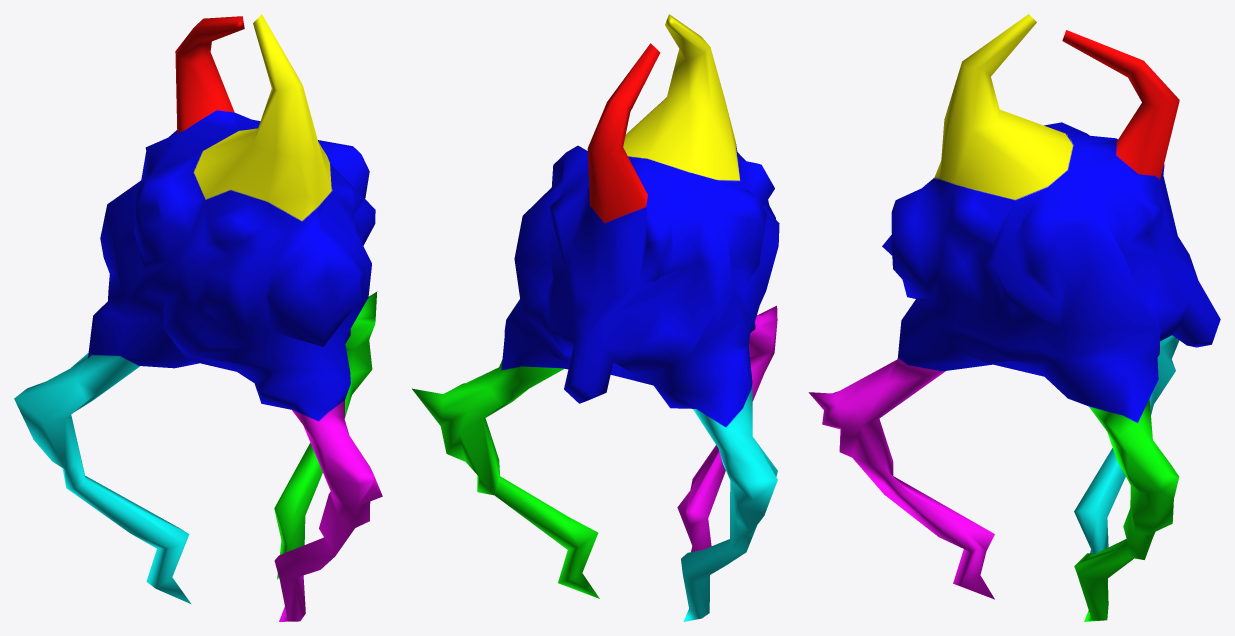
The model's file is creep.fbx.
3 renders of one model, left to right at view 1: azimuth 30°, elevation 25°; view 2: azimuth 150°, elevation 25°; view 3: azimuth 270°, elevation 25°, orthographic. The views are drawn at different scales.
Visible parts, largest first — view 1: creep; view 2: creep; view 3: creep.
Boxes of the visible parts, x1,y1,x2,y2 form: creep: (14, 14, 382, 621); creep: (412, 14, 779, 621); creep: (808, 14, 1220, 621).
Size of the model in its own units: 1.74 by 2.68 by 1.7.
1 material, 1 textured.
